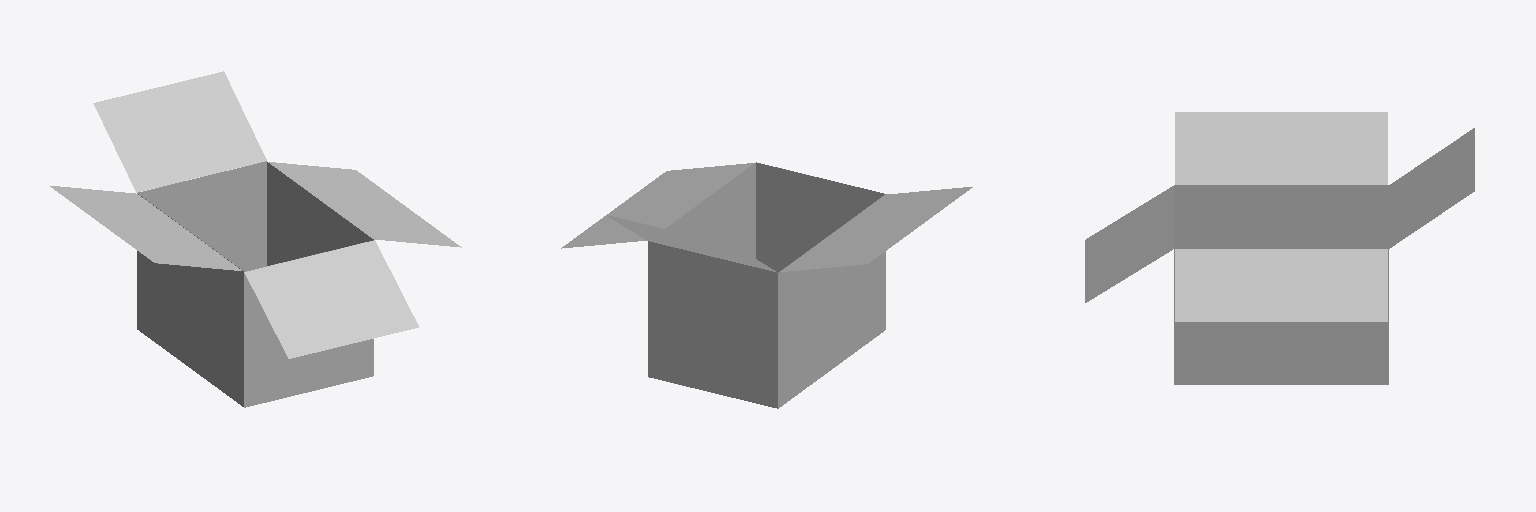
The model's file is Box Open 001.obj.
3 views of the same model, side by side, from view 1: azimuth 30°, elevation 25°; view 2: azimuth 150°, elevation 25°; view 3: azimuth 270°, elevation 25° (orthographic).
Visible parts, largest first — view 1: pCube2; view 2: pCube2; view 3: pCube2.
Boxes of the visible parts, <box> form: pCube2: <box>50,71,461,407</box>; pCube2: <box>561,162,972,408</box>; pCube2: <box>1085,112,1474,384</box>.
Size of the model in its own units: 2.36 by 1.43 by 2.6.